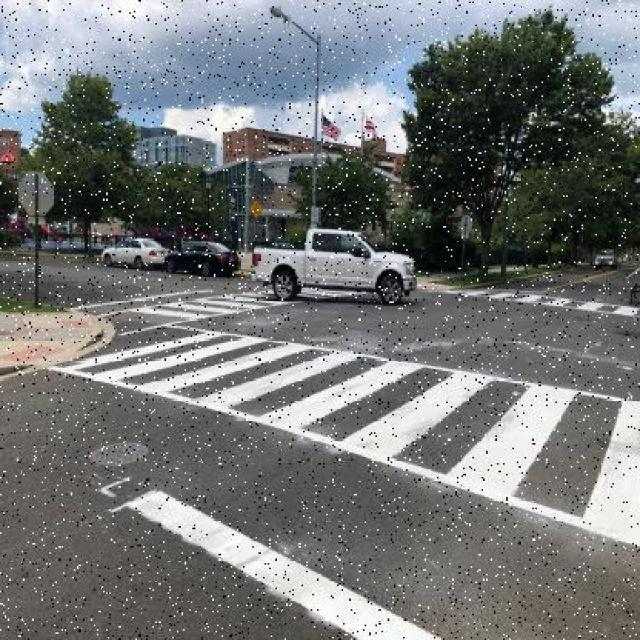crosswalk: (56, 325, 638, 546)
